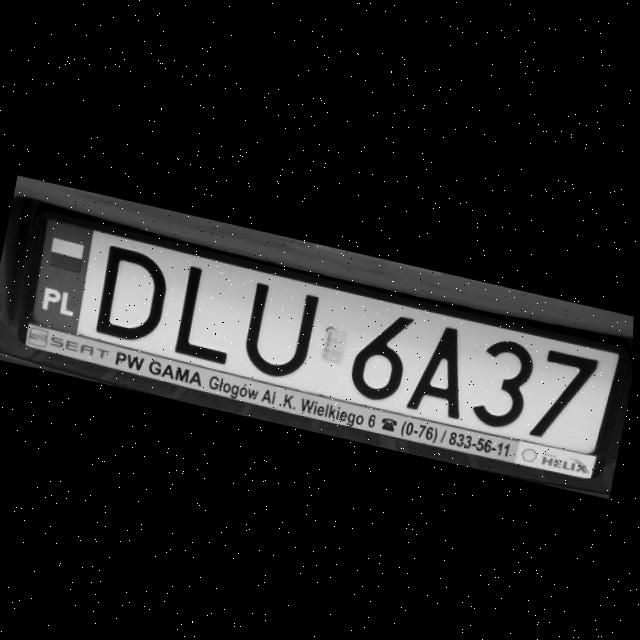license-plates: (31, 220, 618, 452)
